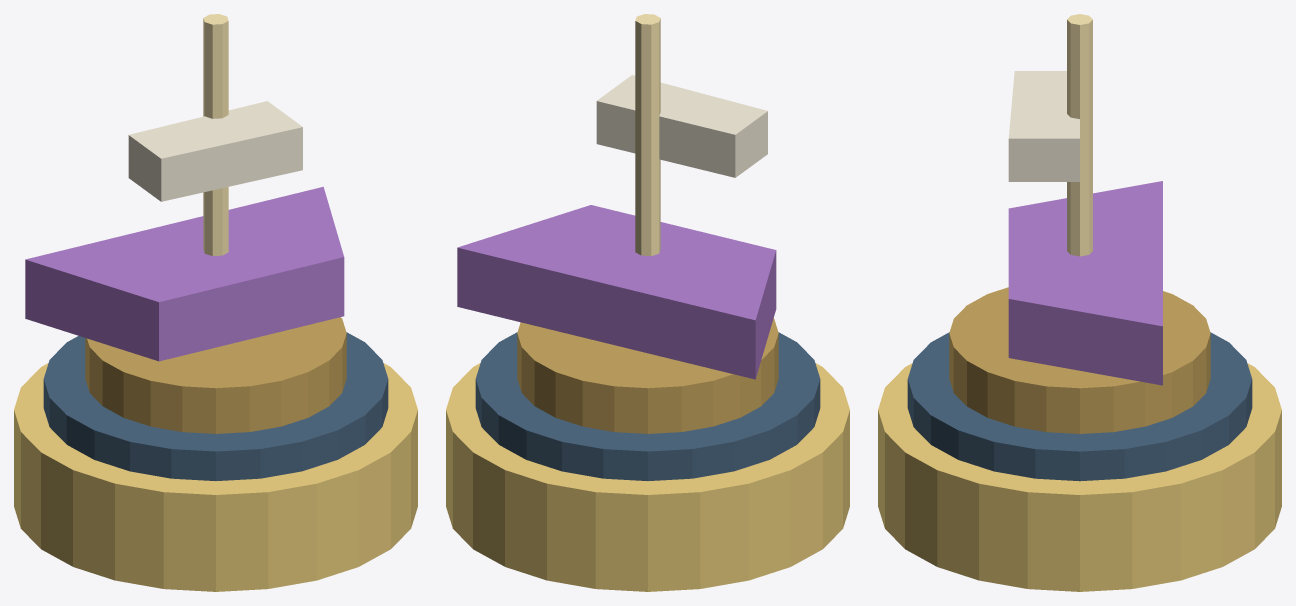
File: ship.glb
3 renders of one model, left to right at view 1: azimuth 30°, elevation 25°; view 2: azimuth 150°, elevation 25°; view 3: azimuth 270°, elevation 25°, orthographic.
Parts seen in each view (by area): view 1: pedestal_gold, ship_hull, pedestal_inlay, plinth, ship_sails, mast; view 2: pedestal_gold, ship_hull, pedestal_inlay, plinth, ship_sails, mast; view 3: pedestal_gold, ship_hull, pedestal_inlay, plinth, ship_sails, mast.
Boxes of the visible parts, box(x1,y1,x2,y2) form: pedestal_gold: box(14, 363, 417, 591); ship_hull: box(25, 186, 344, 361); pedestal_inlay: box(43, 332, 388, 480); plinth: box(85, 317, 346, 433); ship_sails: box(128, 101, 302, 201); mast: box(203, 14, 228, 255); pedestal_gold: box(446, 363, 849, 591); ship_hull: box(457, 205, 776, 379); pedestal_inlay: box(475, 332, 820, 480); plinth: box(517, 318, 778, 433); ship_sails: box(596, 75, 767, 177); mast: box(635, 14, 660, 255); pedestal_gold: box(878, 363, 1281, 591); ship_hull: box(1008, 181, 1162, 385); pedestal_inlay: box(907, 332, 1252, 481); plinth: box(949, 287, 1210, 433); ship_sails: box(1008, 71, 1079, 181); mast: box(1067, 14, 1092, 256).
Bounding box in the file's own units: 0.68 × 0.905 × 0.68.
